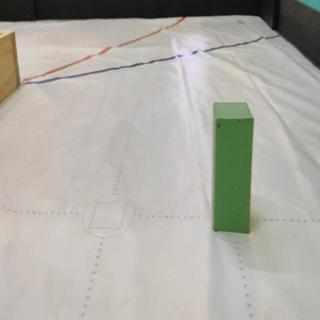greenbox: (213, 101, 255, 234)
